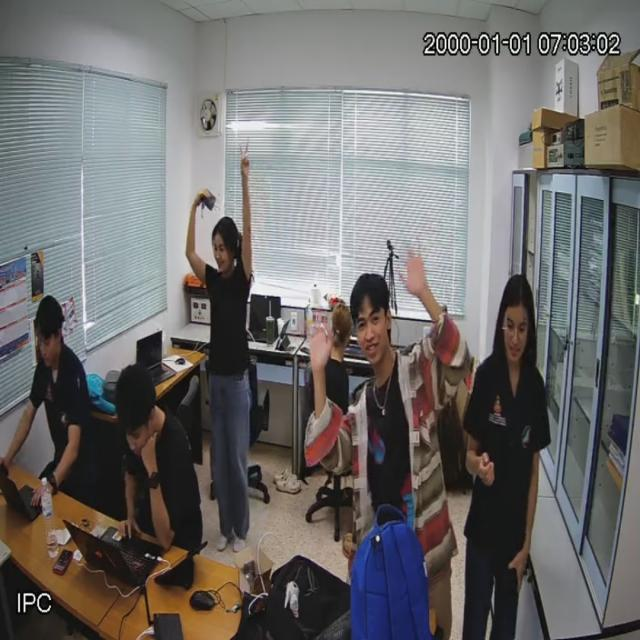normal: (464, 272, 554, 640), (192, 174, 261, 564), (109, 357, 198, 571), (31, 284, 102, 506), (335, 260, 346, 278)
